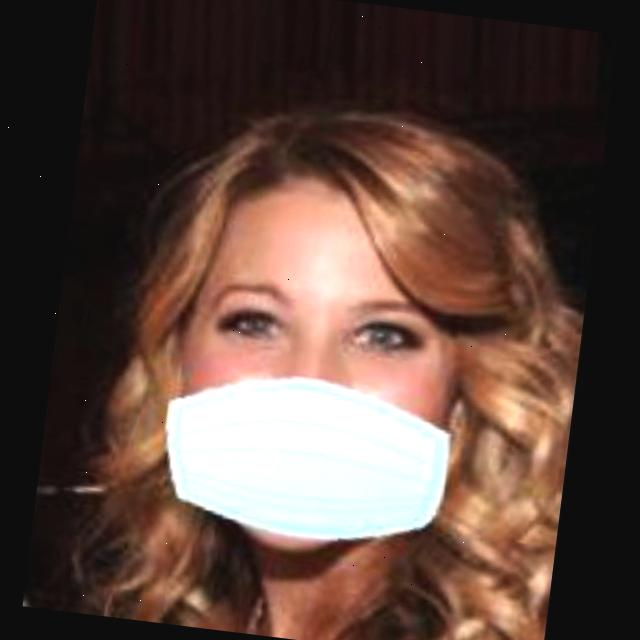suspicion: (127, 149, 558, 626)
